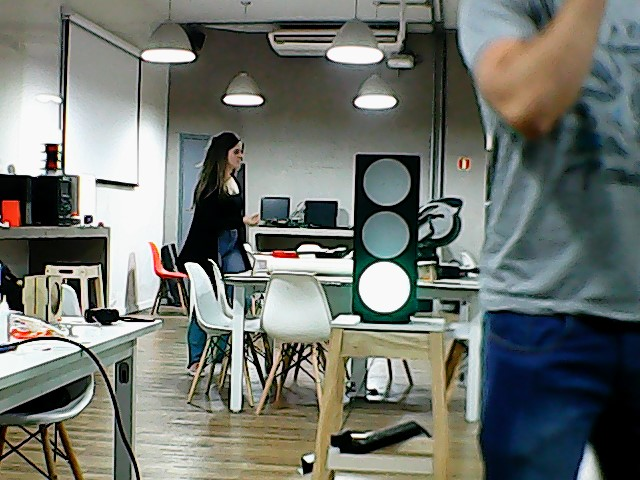verde: (343, 144, 428, 327)
